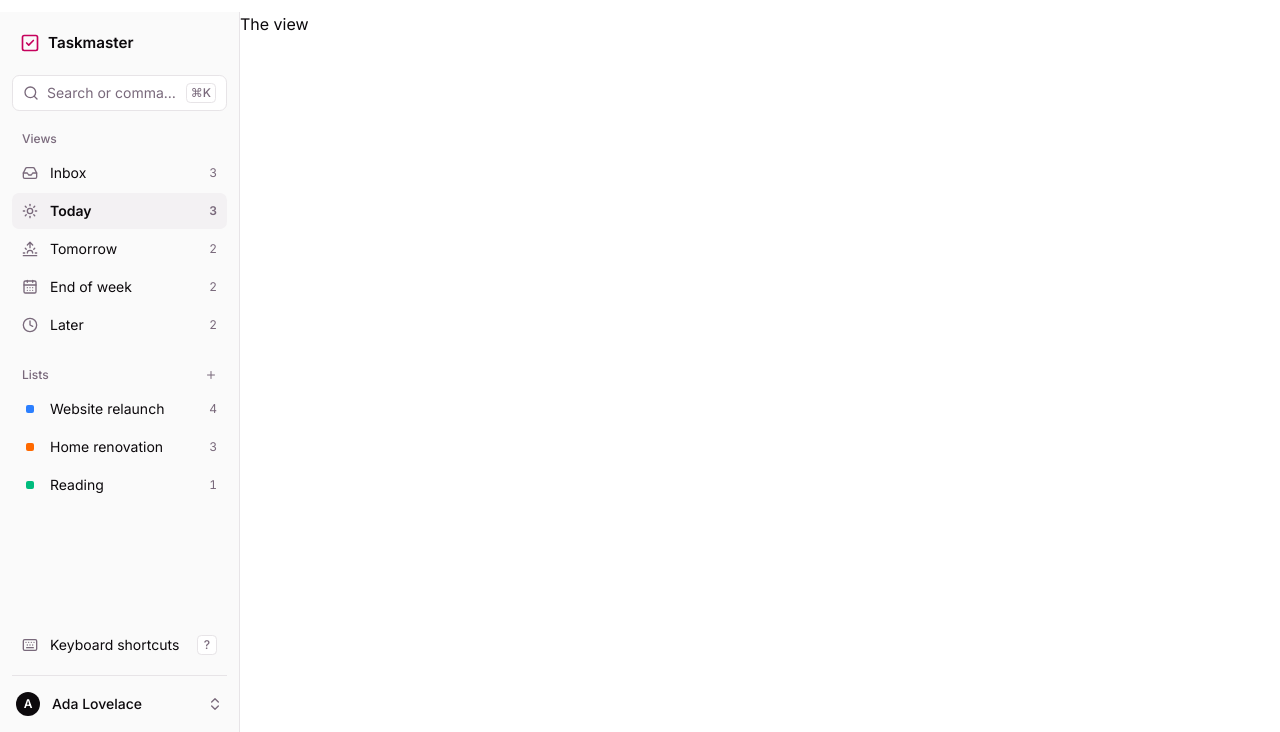
WorkspaceShell › shows the clicked view loading until it arrives
The width and height of the screenshot is (1280, 732).
Click the link "Tomorrow 2": click(120, 248) [22, 240, 217, 257]
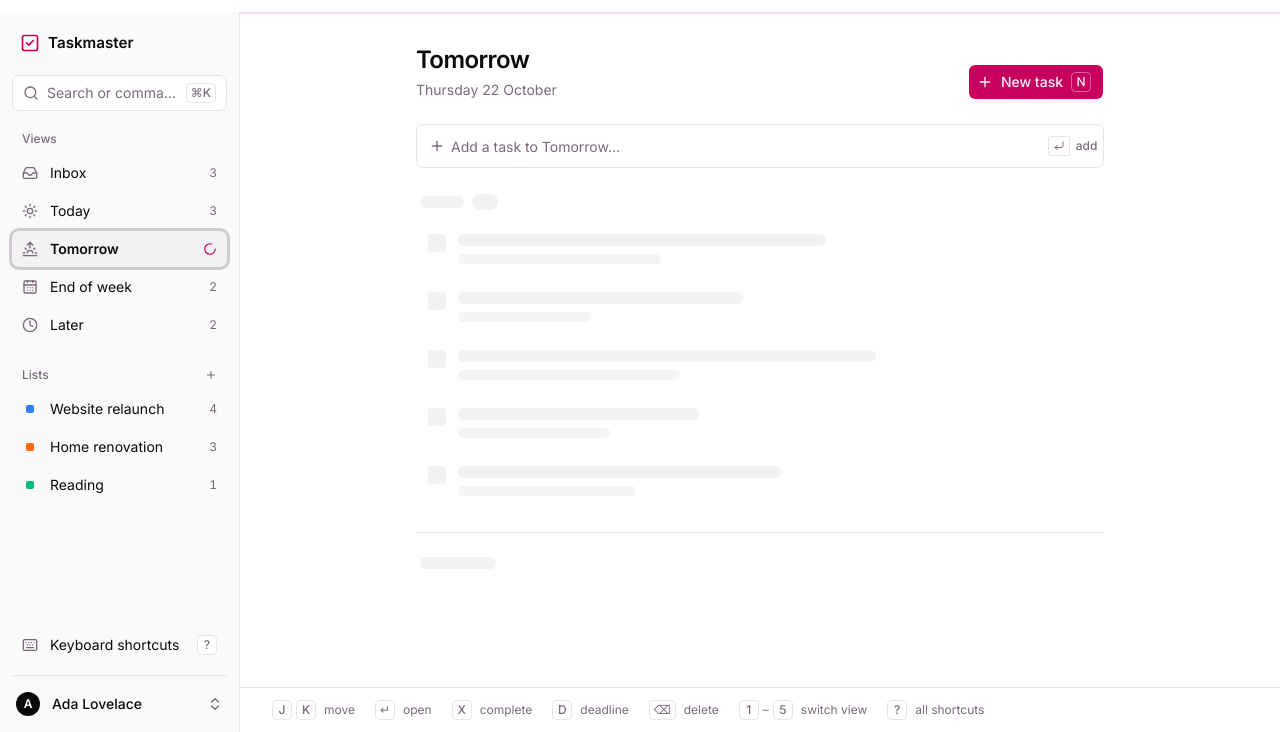
Expected: the heading "Tomorrow" is shown, [416, 45, 529, 74]
Expected: the text "Thursday 22 October" is shown, [416, 80, 557, 100]
Expected: the progress indicator named "Loading" is shown, [240, 12, 1279, 14]
